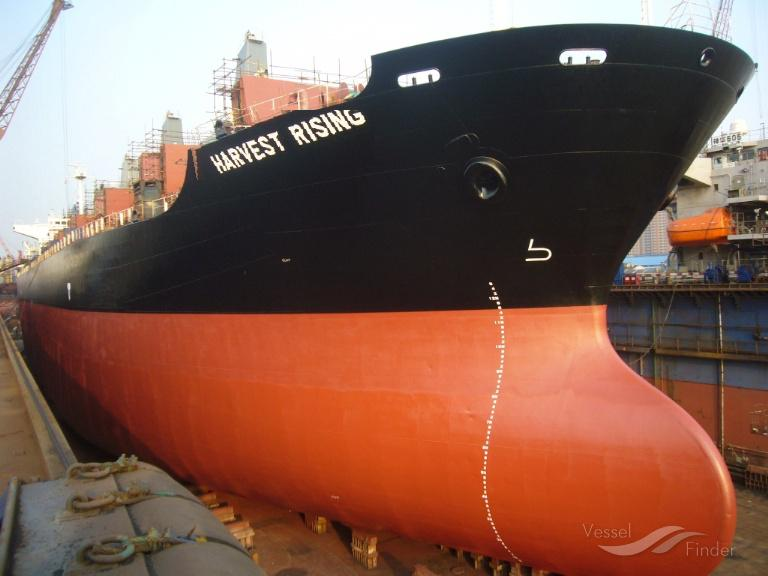OCR: (184, 110, 374, 180)
